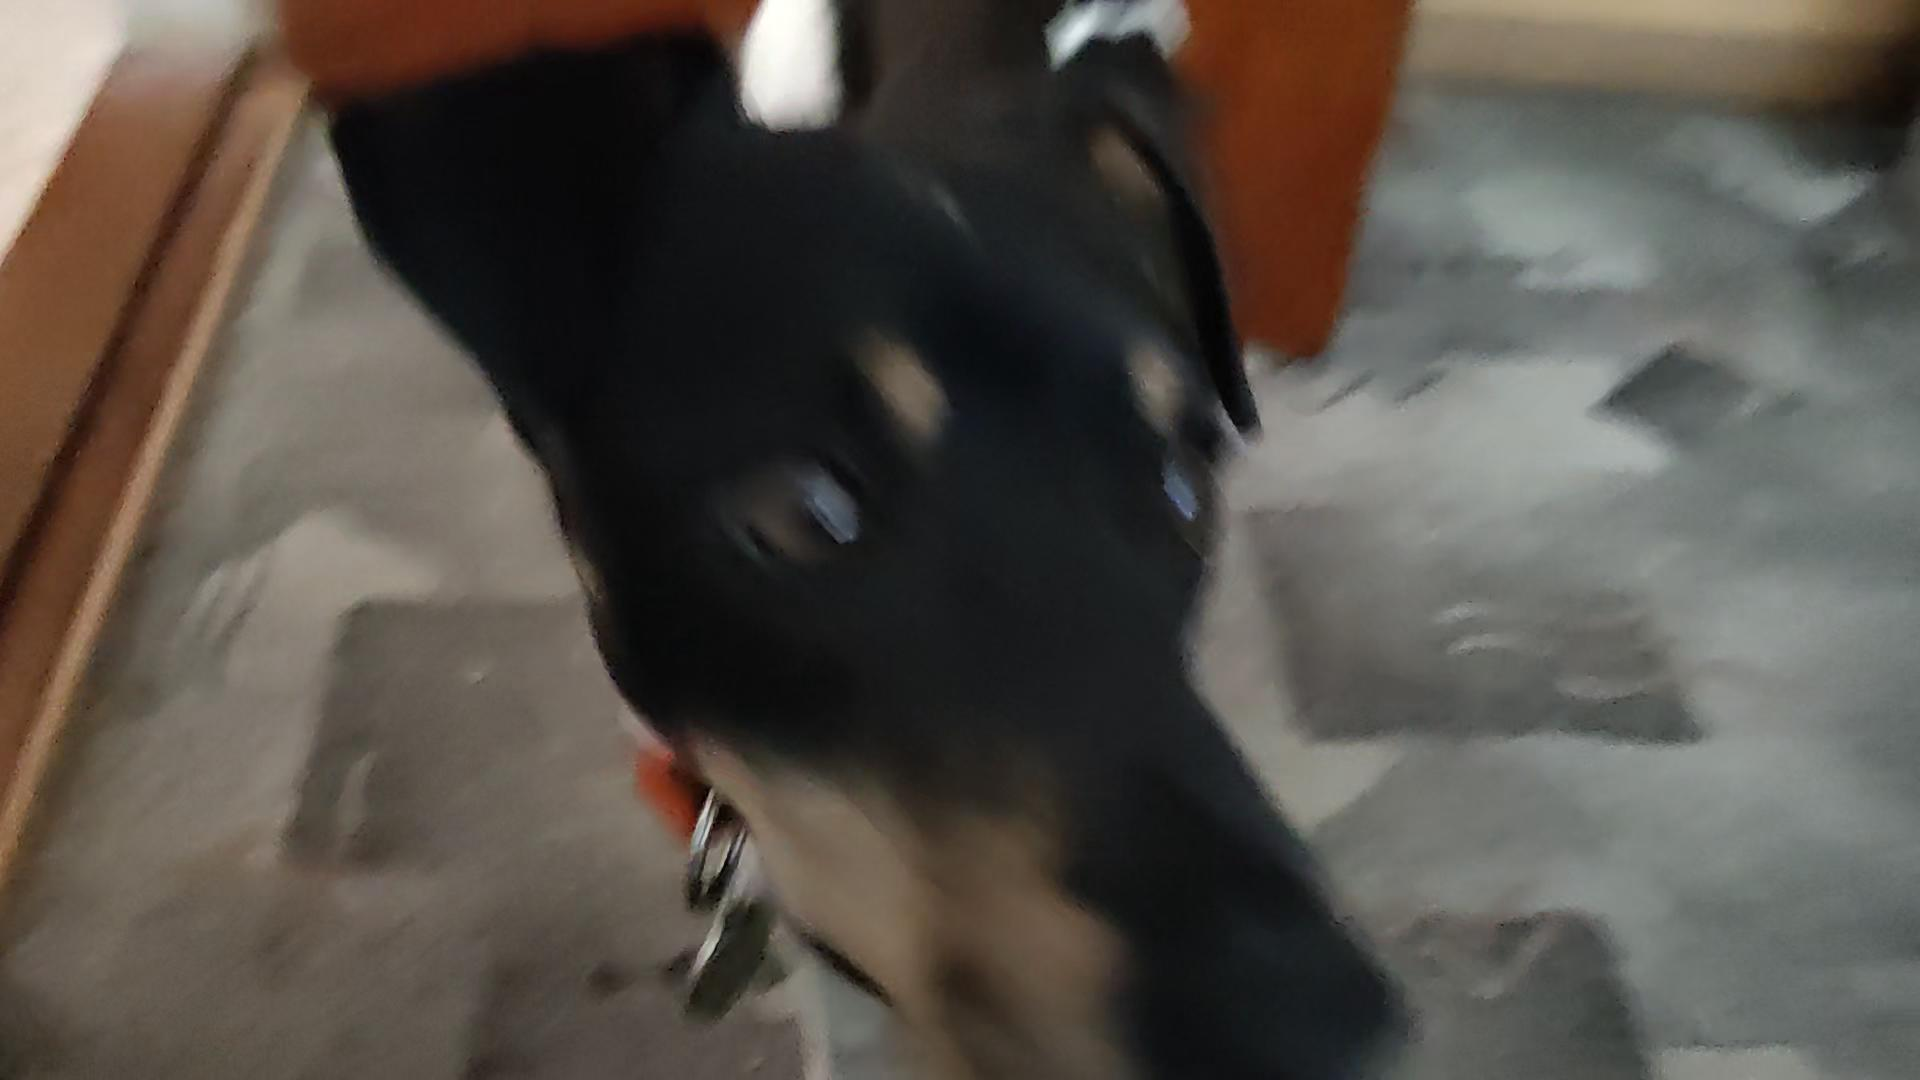Dog: (286, 0, 1491, 1080)
